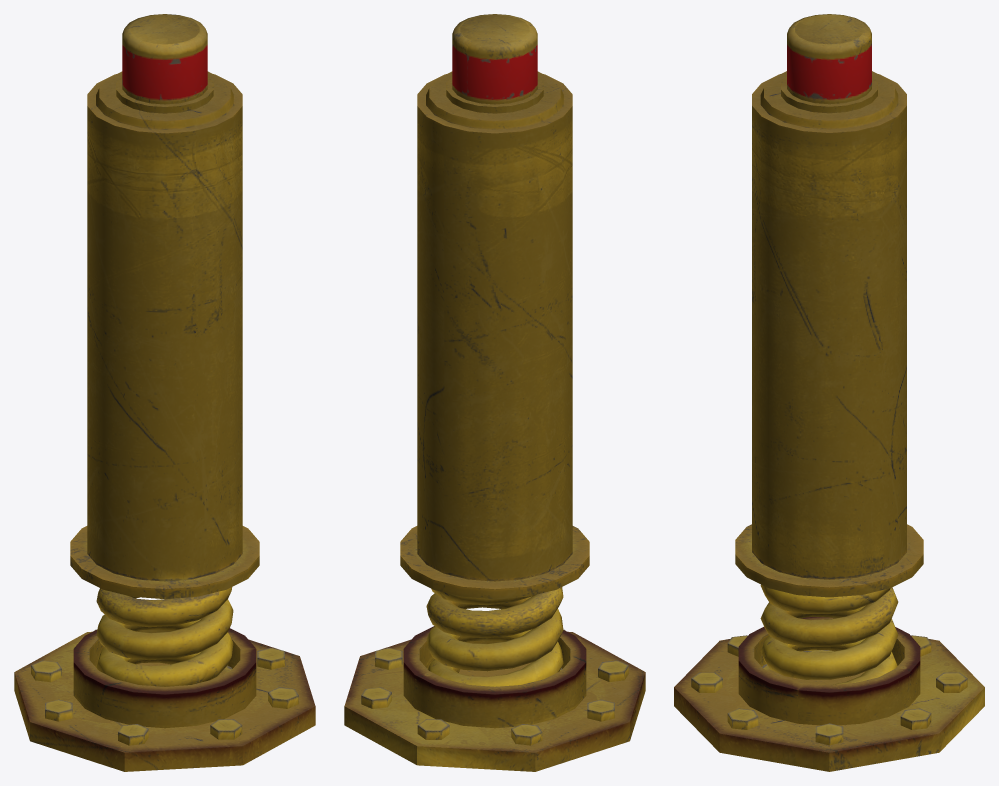
File: Prop_BarrierYellow.fbx
3 renders of one model, left to right at view 1: azimuth 30°, elevation 25°; view 2: azimuth 150°, elevation 25°; view 3: azimuth 270°, elevation 25°, orthographic.
Visible parts, largest first — view 1: Prop_BarrierYellow; view 2: Prop_BarrierYellow; view 3: Prop_BarrierYellow.
Boxes of the visible parts, left/top/right/bottom form: Prop_BarrierYellow: left=14, top=14, right=315, bottom=771; Prop_BarrierYellow: left=344, top=14, right=645, bottom=771; Prop_BarrierYellow: left=674, top=14, right=984, bottom=771.
Size of the model in its own units: 19.9 by 47.81 by 19.9.
